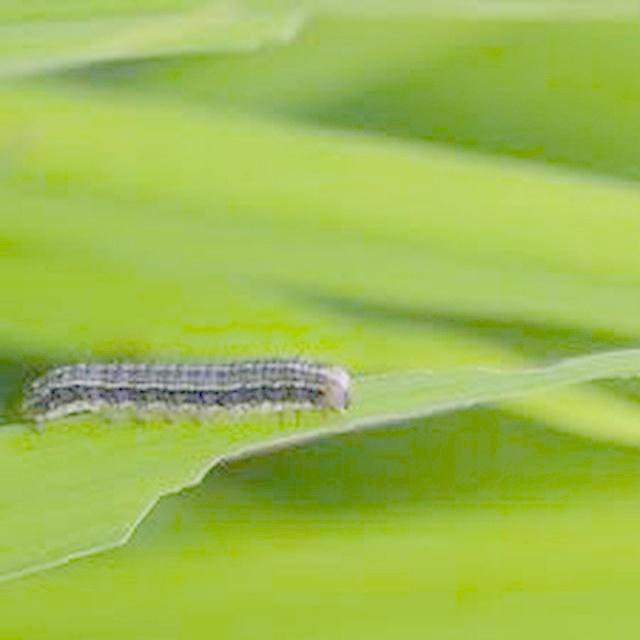Plaga: (20, 356, 353, 433)
